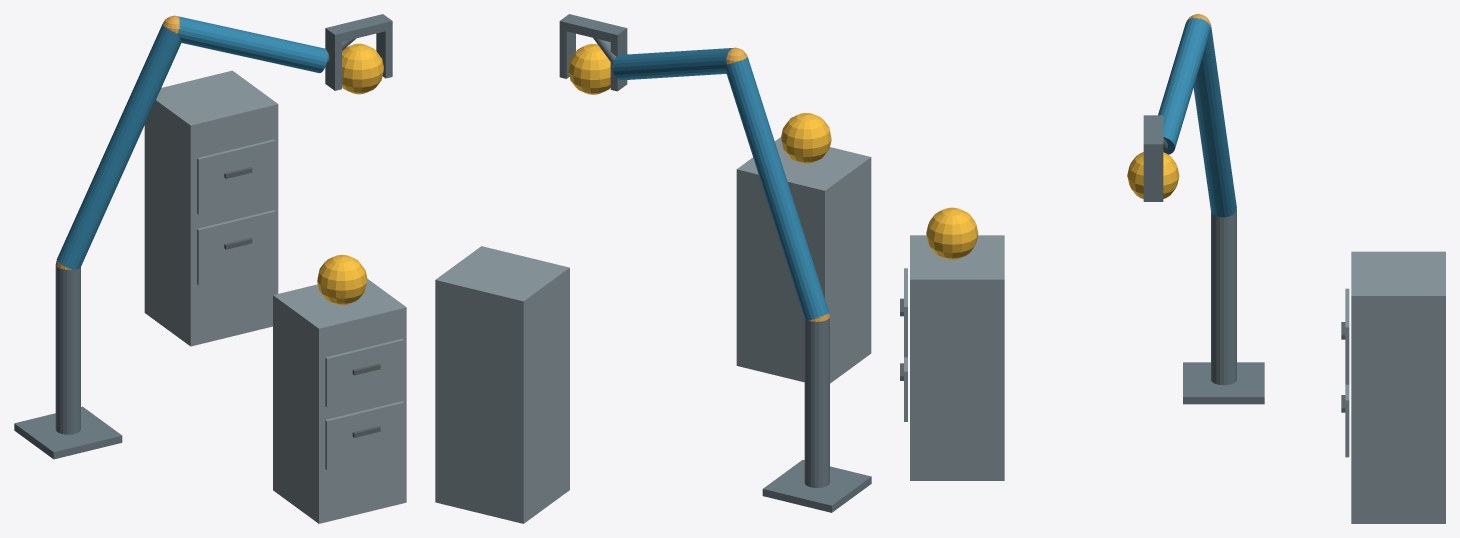
The picture shows the model from 3 angles, left to right: view 1: azimuth 30°, elevation 25°; view 2: azimuth 150°, elevation 25°; view 3: azimuth 270°, elevation 25°; orthographic projection. The views are drawn at different scales.
Visible parts, largest first — view 1: cabinet_2 body, cabinet_1 body, moving link 1, cabinet_2 drawer front, cabinet_2 drawer front.001, fixed post, cabinet_1 drawer front.001, cabinet_1 drawer front, moving link 2, pedestal, released ball_1, ball ball_2 (+3 smaller); view 2: cabinet_2 body, cabinet_1 body, moving link 1, fixed post, moving link 2, pedestal, released ball_1, ball ball_2, gripper bridge, gripper finger 1; view 3: cabinet_2 body, cabinet_1 body, fixed post, moving link 1, moving link 2, pedestal, released ball_1, ball ball_2, gripper finger 1, gripper bridge.
Part boxes in pixels (left/top/right/bottom): cabinet_2 body: left=144, top=70, right=278, bottom=346; cabinet_1 body: left=273, top=279, right=406, bottom=523; moving link 1: left=56, top=23, right=181, bottom=269; cabinet_2 drawer front: left=197, top=210, right=275, bottom=285; cabinet_2 drawer front.001: left=197, top=139, right=275, bottom=214; fixed post: left=55, top=266, right=80, bottom=434; cabinet_1 drawer front.001: left=325, top=338, right=404, bottom=407; cabinet_1 drawer front: left=325, top=401, right=404, bottom=469; moving link 2: left=178, top=16, right=327, bottom=73; pedestal: left=14, top=406, right=122, bottom=459; released ball_1: left=317, top=254, right=367, bottom=305; ball ball_2: left=342, top=43, right=383, bottom=94; cabinet_2 body: left=435, top=246, right=569, bottom=523; cabinet_1 body: left=736, top=137, right=871, bottom=383; moving link 1: left=725, top=56, right=829, bottom=320; fixed post: left=804, top=316, right=829, bottom=487; moving link 2: left=612, top=47, right=734, bottom=80; pedestal: left=762, top=460, right=871, bottom=512; released ball_1: left=781, top=113, right=831, bottom=163; ball ball_2: left=568, top=44, right=610, bottom=94; gripper bridge: left=559, top=14, right=627, bottom=43; gripper finger 1: left=559, top=30, right=575, bottom=78; cabinet_2 body: left=1351, top=251, right=1445, bottom=523; cabinet_1 body: left=910, top=235, right=1004, bottom=480; fixed post: left=1211, top=210, right=1236, bottom=385; moving link 1: left=1193, top=24, right=1236, bottom=217; moving link 2: left=1158, top=18, right=1210, bottom=154; pedestal: left=1183, top=362, right=1264, bottom=404; released ball_1: left=926, top=207, right=978, bottom=259; ball ball_2: left=1127, top=152, right=1179, bottom=199; gripper finger 1: left=1143, top=153, right=1163, bottom=201; gripper bridge: left=1143, top=115, right=1163, bottom=152.
Bounding box in the file's own units: 1.17 × 1.41 × 1.67.
